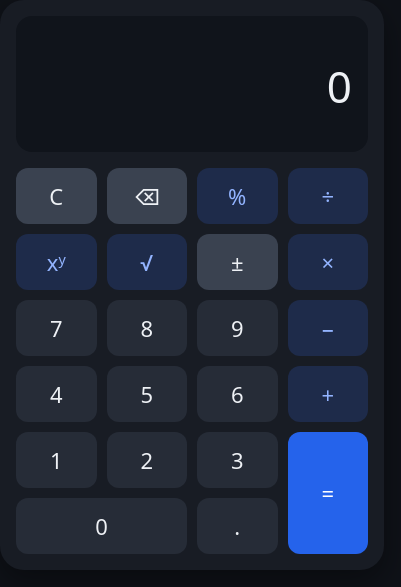
CalculatorPanel › chains 2 + 3 × 4 = 20
Click the button "2" at {"x": 147, "y": 460}, box [106,432,187,488]
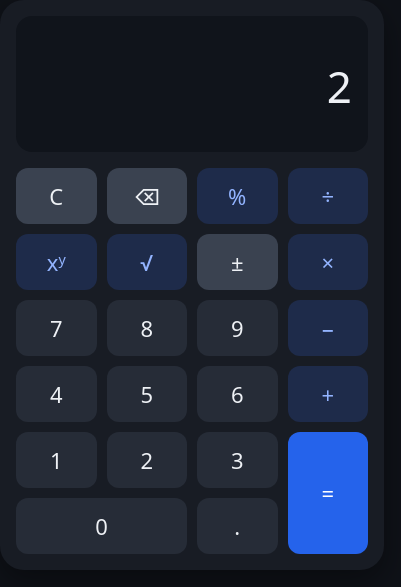
Click the button named "add" at {"x": 328, "y": 394}, box [288,366,368,422]
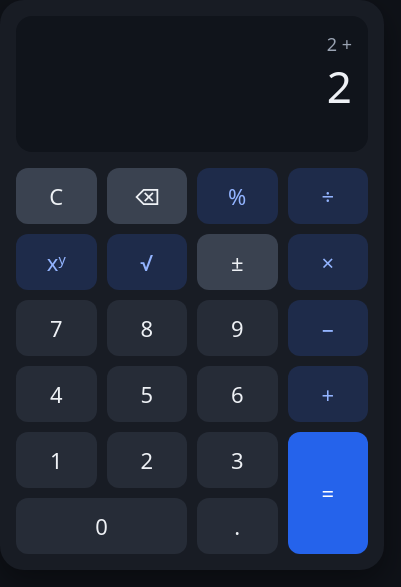
Click the button "3" at {"x": 237, "y": 460}, box [197,432,278,488]
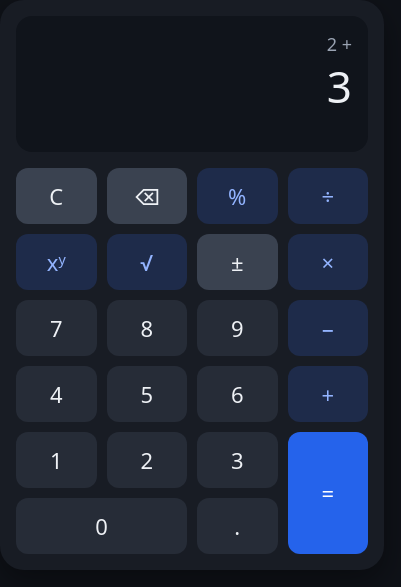
Click the button named "multiply" at {"x": 328, "y": 262}, box [288,234,368,290]
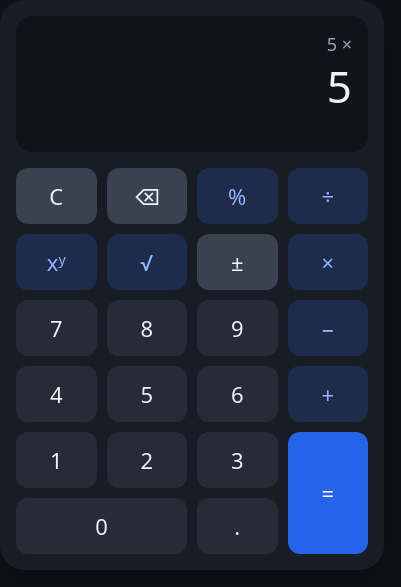
Expected: the text "5 ×" is shown, [327,32,352,56]
Expected: the text "5" is shown, [327,56,352,116]
Click the button "4" at {"x": 56, "y": 394}, box [16,366,96,422]
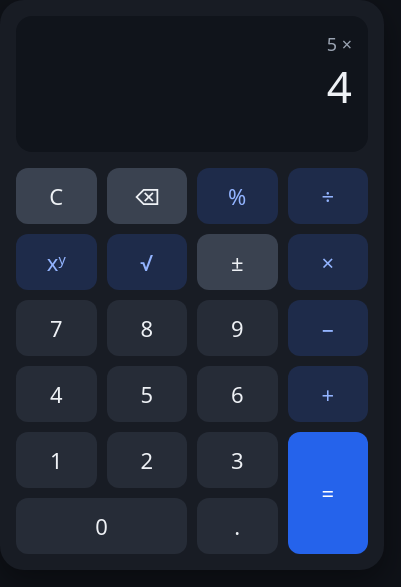
Click the button named "equals" at {"x": 328, "y": 493}, box [288,432,368,554]
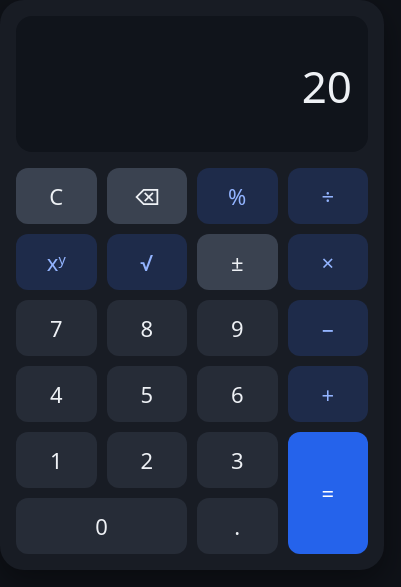
Expected: the text "20" is shown, [302,56,352,116]
